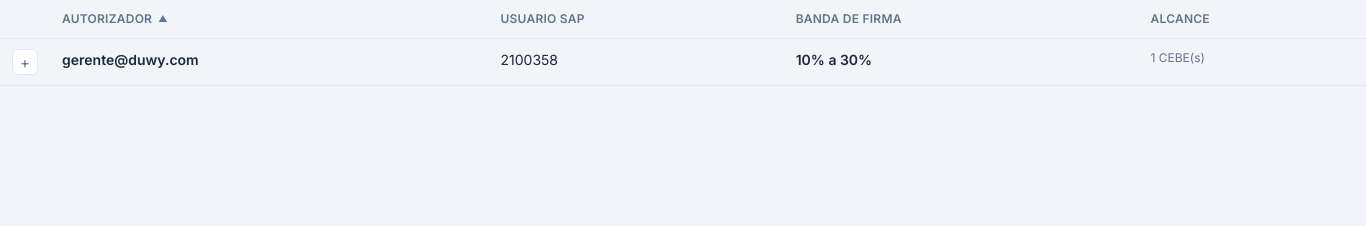
Test: AuthorizersTable › el detalle expone los crudos de SAP para poder auditar
The width and height of the screenshot is (1366, 226).
Click the button named "Ver detalle" at x=25, y=62, box [12,49,38,75]
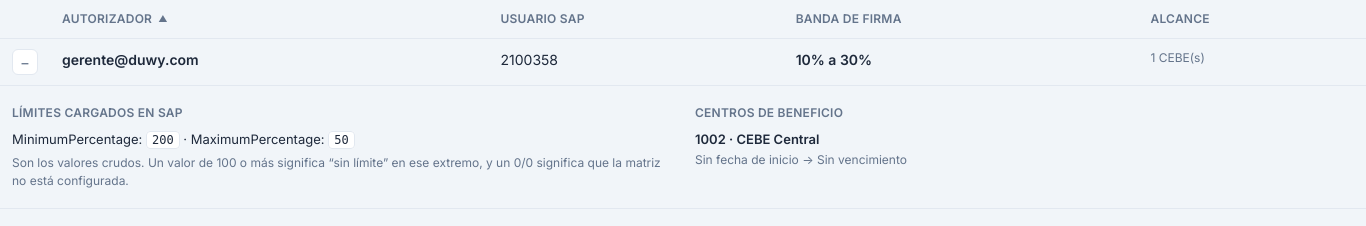
Check: the text "MinimumPercentage: 200 · MaximumPercentage: 50" is shown, box [12,131,355,149]
Check: the text "200" is shown, box [146,131,180,149]
Check: the text "50" is shown, box [328,131,355,149]
